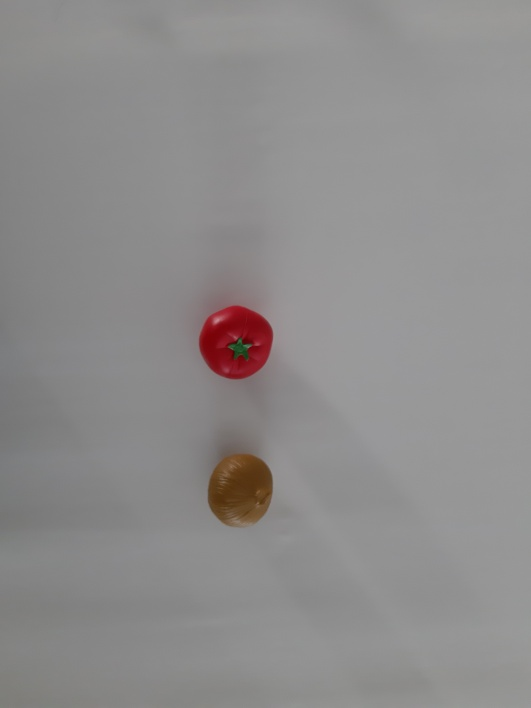onion: (196, 446, 283, 534)
tomato: (180, 290, 290, 402)
